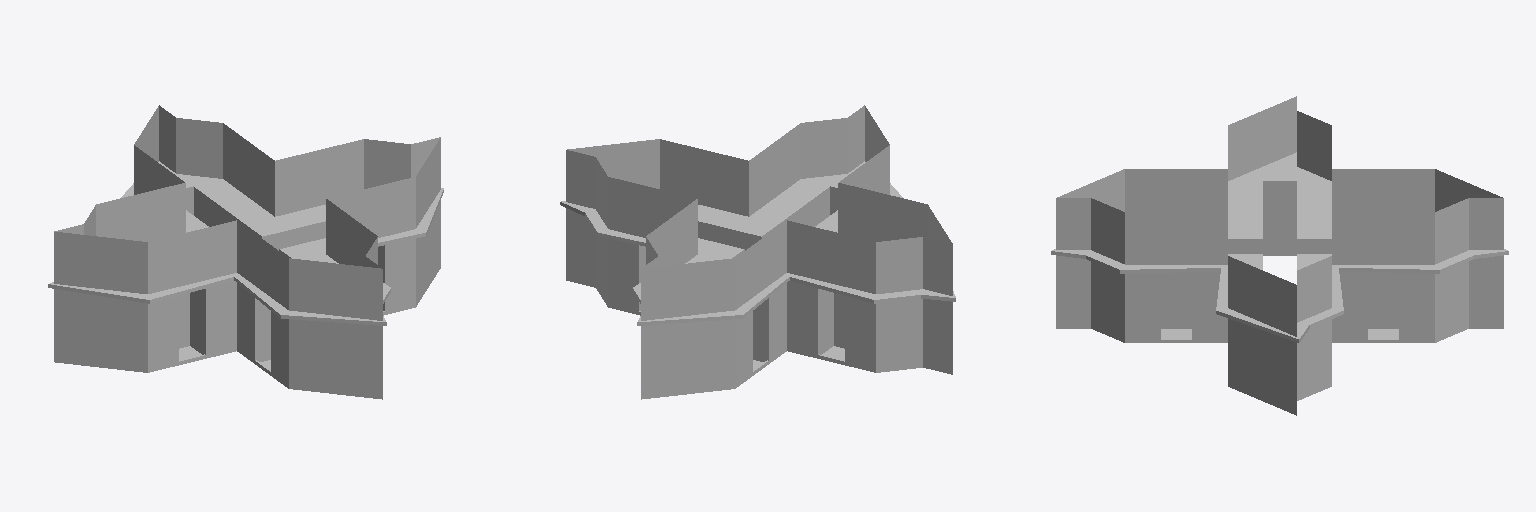
The model's file is TallMiddleBody.obj.
3 views of the same model, side by side, from view 1: azimuth 30°, elevation 25°; view 2: azimuth 150°, elevation 25°; view 3: azimuth 270°, elevation 25° (orthographic).
Parts seen in each view (by area): view 1: TallMiddleBody KA_BLDG8_floor_14 KA_BLDG8_grp KA_BLDG8_Architect; view 2: TallMiddleBody KA_BLDG8_floor_14 KA_BLDG8_grp KA_BLDG8_Architect; view 3: TallMiddleBody KA_BLDG8_floor_14 KA_BLDG8_grp KA_BLDG8_Architect.
Boxes of the visible parts, x1=… form: TallMiddleBody KA_BLDG8_floor_14 KA_BLDG8_grp KA_BLDG8_Architect: x1=48, y1=105, x2=443, y2=399; TallMiddleBody KA_BLDG8_floor_14 KA_BLDG8_grp KA_BLDG8_Architect: x1=560, y1=105, x2=955, y2=399; TallMiddleBody KA_BLDG8_floor_14 KA_BLDG8_grp KA_BLDG8_Architect: x1=1051, y1=96, x2=1508, y2=415.
Size of the model in its own units: 2485 by 785 by 2485.